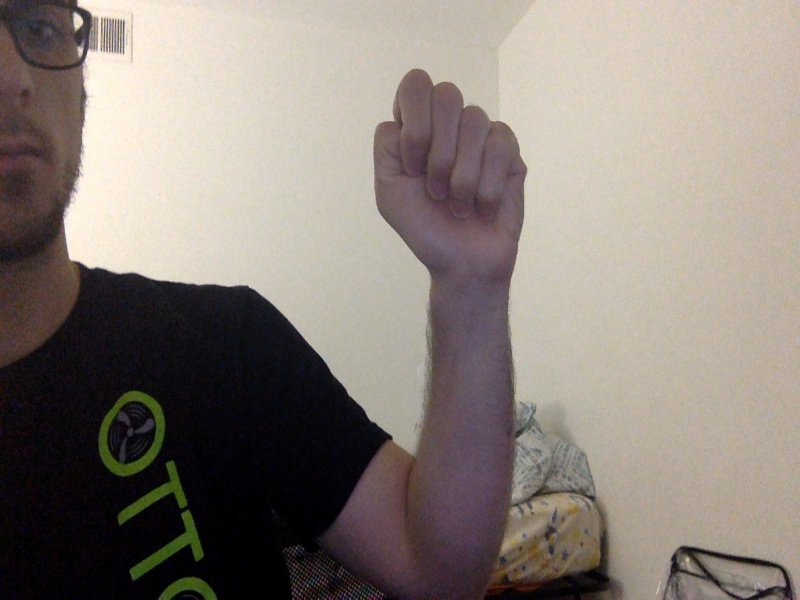0-hand: (373, 63, 527, 286)
